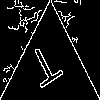T: (25, 42, 68, 96)
